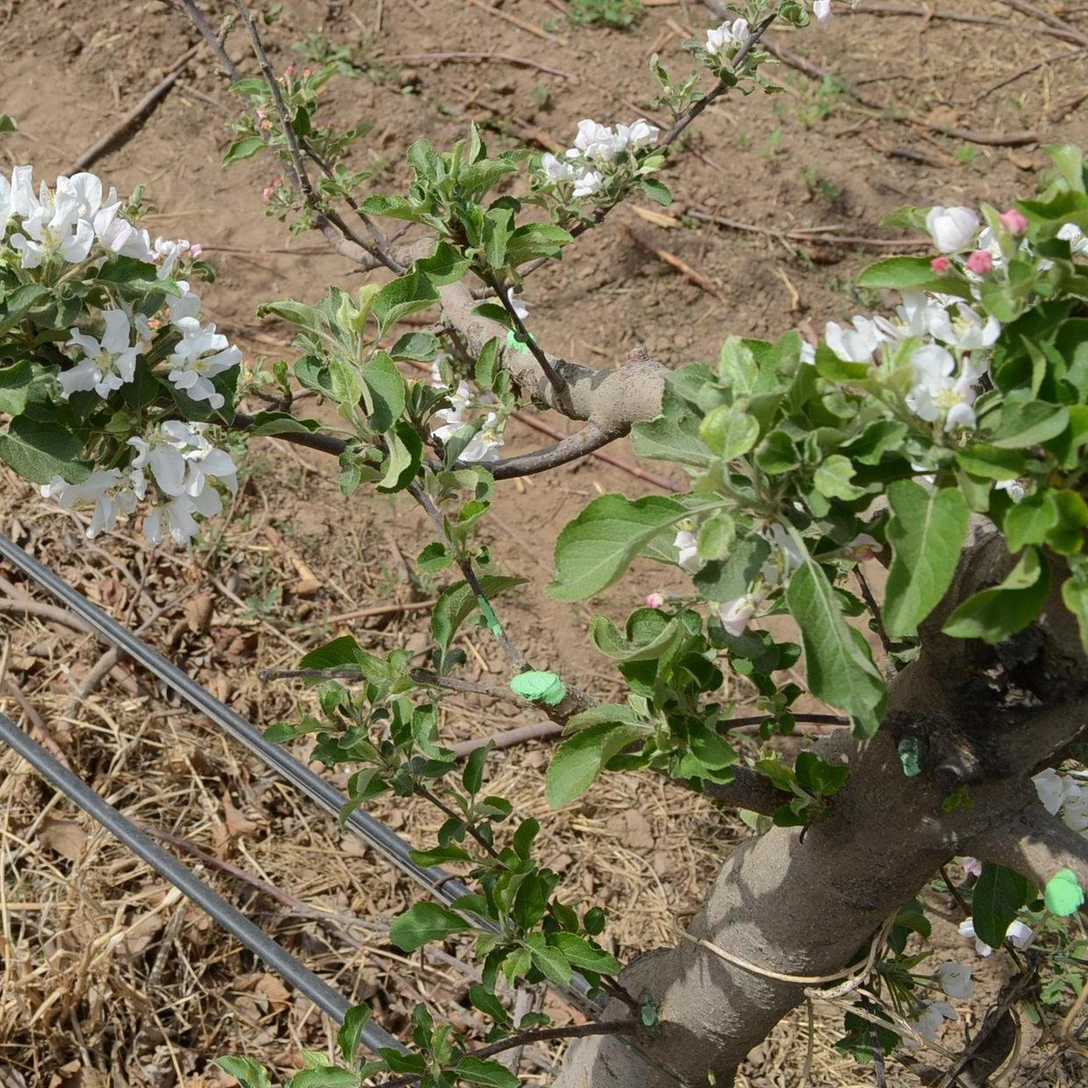apple_flower: (0, 164, 241, 407), (42, 419, 239, 545), (830, 290, 1006, 429), (545, 117, 662, 194), (434, 379, 506, 462), (913, 962, 979, 1044), (1038, 769, 1088, 835), (930, 204, 986, 253), (708, 15, 755, 55), (677, 525, 709, 571), (962, 920, 997, 957), (990, 203, 1033, 233), (1011, 919, 1040, 951), (1063, 220, 1088, 256), (969, 247, 1000, 275), (814, 0, 861, 17), (935, 254, 956, 272)
